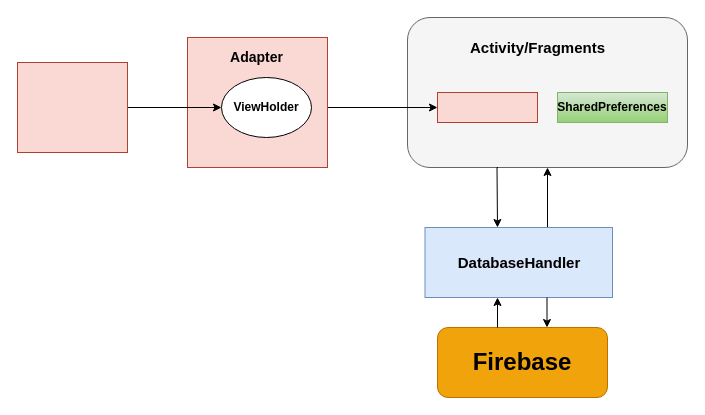
This 705x415 diagram has some shape labels left out. Here are the shapes that lost their labels. From the top down, the box of each, then its label:
(16, 62, 128, 152): DataModels
(436, 92, 538, 122): RecylerView
